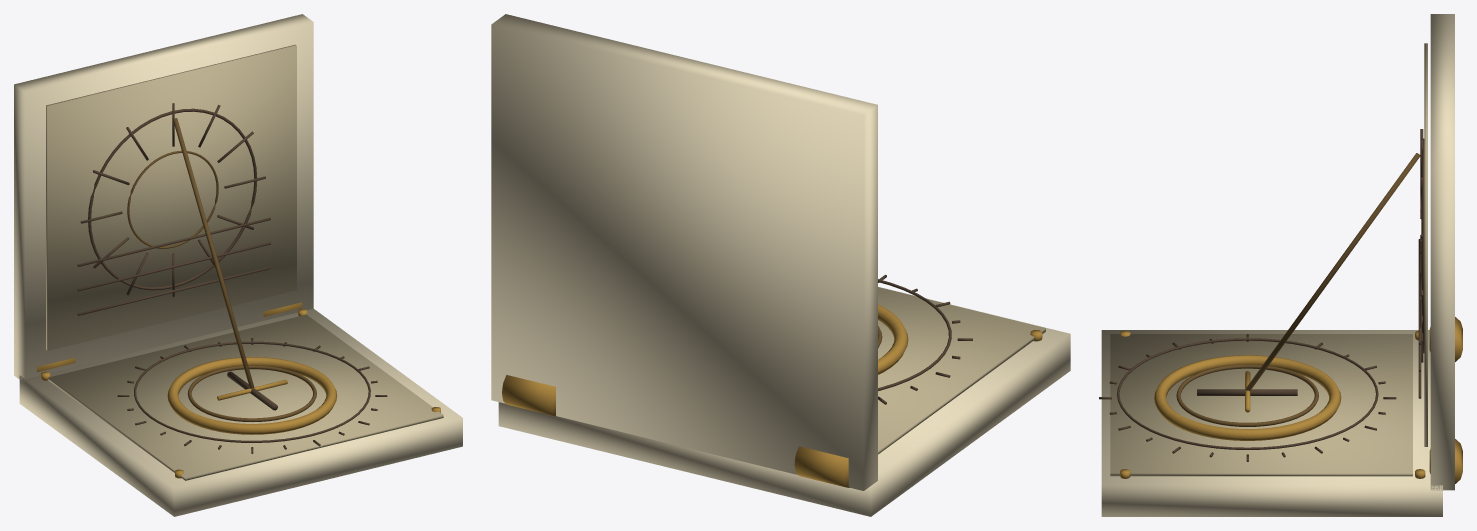
File: 01_Ceas_Solar_1591_Unity_Y_Up.obj
The picture shows the model from 3 angles, left to right: view 1: azimuth 30°, elevation 25°; view 2: azimuth 150°, elevation 25°; view 3: azimuth 270°, elevation 25°; orthographic projection. The views are drawn at different scales.
Parts seen in each view (by area): view 1: ivory_shadow, ivory, ink, brass, brass_dark; view 2: ivory, ivory_shadow, brass, ink; view 3: ivory_shadow, ivory, brass, ink, brass_dark.
Part boxes in pixels (bbox=[...]): ivory_shadow: bbox=[46, 44, 443, 480]; ivory: bbox=[14, 14, 462, 516]; ink: bbox=[77, 103, 387, 453]; brass: bbox=[37, 302, 440, 478]; brass_dark: bbox=[127, 118, 316, 422]; ivory: bbox=[491, 14, 1070, 516]; ivory_shadow: bbox=[878, 287, 1045, 454]; brass: bbox=[502, 304, 1042, 487]; ink: bbox=[878, 274, 972, 404]; ivory_shadow: bbox=[1110, 43, 1427, 476]; ivory: bbox=[1101, 14, 1454, 516]; brass: bbox=[1120, 317, 1462, 483]; ink: bbox=[1099, 129, 1424, 461]; brass_dark: bbox=[1176, 153, 1421, 426].
Bounding box in the file's own units: 0.42 × 0.4385 × 0.416.
